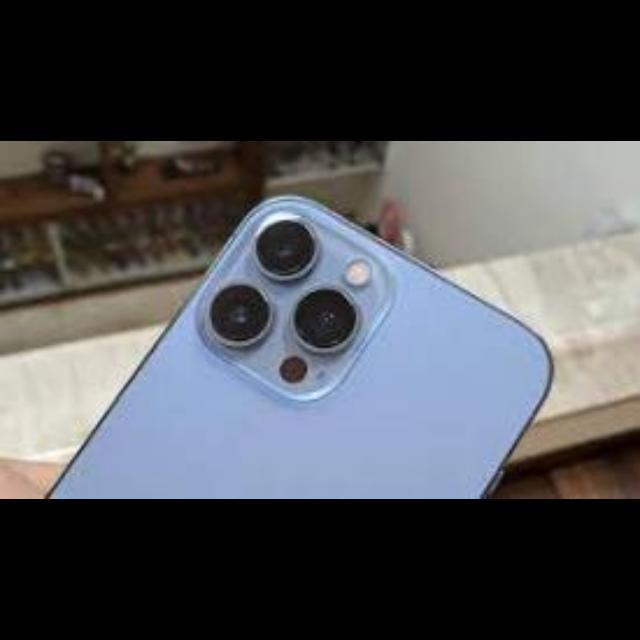PhoneUse: (49, 192, 574, 500)
